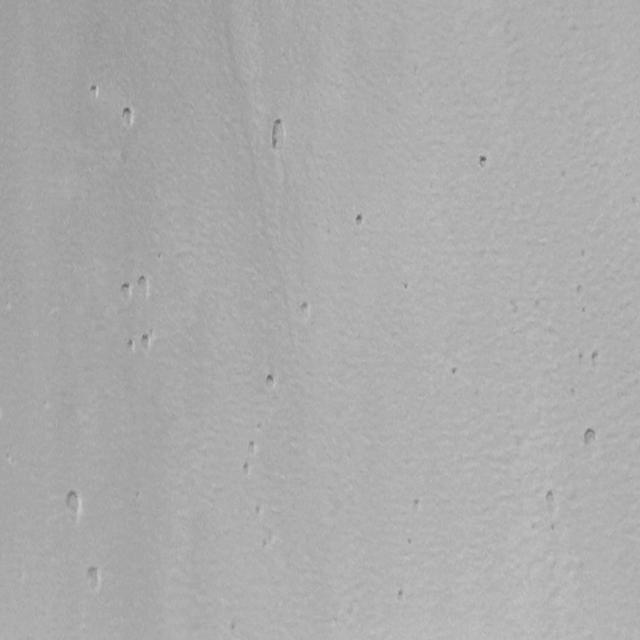pin holes: (266, 115, 289, 151), (61, 487, 85, 521), (82, 563, 104, 595), (542, 488, 562, 514), (581, 424, 600, 451), (135, 274, 154, 300), (121, 106, 140, 130), (119, 278, 136, 302), (296, 299, 314, 321), (263, 372, 280, 393), (138, 331, 154, 353), (588, 348, 604, 369), (261, 527, 275, 551), (86, 82, 102, 102), (354, 212, 369, 233), (394, 587, 411, 604), (476, 154, 492, 172), (409, 498, 424, 514), (246, 438, 259, 456), (448, 365, 462, 379), (240, 462, 252, 478), (125, 338, 137, 354), (576, 282, 584, 298), (255, 420, 266, 430), (230, 618, 237, 633), (578, 353, 584, 369), (580, 247, 588, 259), (571, 386, 576, 402), (580, 306, 588, 316), (403, 281, 411, 291), (550, 522, 558, 532), (255, 505, 262, 516), (407, 537, 414, 546)
